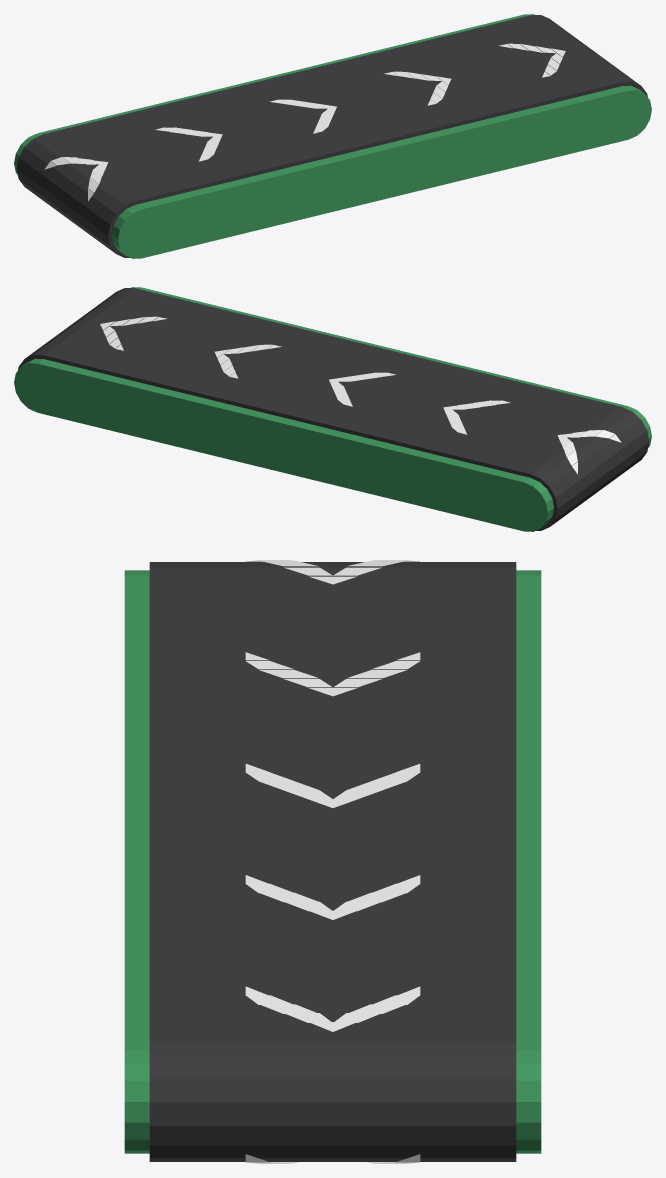
Rendered from ConveyorTile.fbx.
3 views of the same model, one above another, from view 1: azimuth 30°, elevation 25°; view 2: azimuth 150°, elevation 25°; view 3: azimuth 270°, elevation 25° (orthographic). The views are drawn at different scales.
Visible parts, largest first — view 1: ConveyorTile; view 2: ConveyorTile; view 3: ConveyorTile.
Part boxes in pixels (x1,y1,x2,y2): ConveyorTile: (14,14,651,258); ConveyorTile: (14,287,651,531); ConveyorTile: (124,562,541,1161).
Size of the model in its own units: 3 by 0.3094 by 1.
